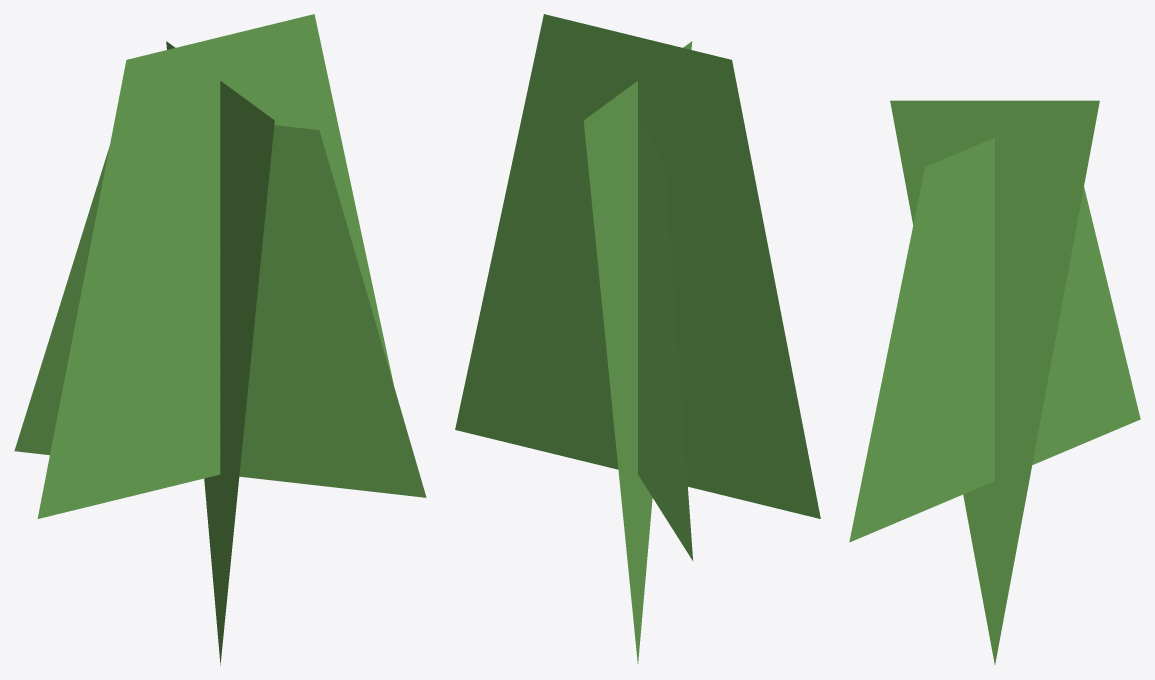
Rendered from grass_cluster.glb.
The picture shows the model from 3 angles, left to right: view 1: azimuth 30°, elevation 25°; view 2: azimuth 150°, elevation 25°; view 3: azimuth 270°, elevation 25°; orthographic projection. The views are drawn at different scales.
Visible parts, largest first — view 1: GrassCluster; view 2: GrassCluster; view 3: GrassCluster.
Part boxes in pixels (x1,y1,x2,y2): GrassCluster: (14,14,426,665); GrassCluster: (455,14,820,663); GrassCluster: (849,100,1140,664).
Size of the model in its own units: 0.7 by 1.15 by 0.5.
